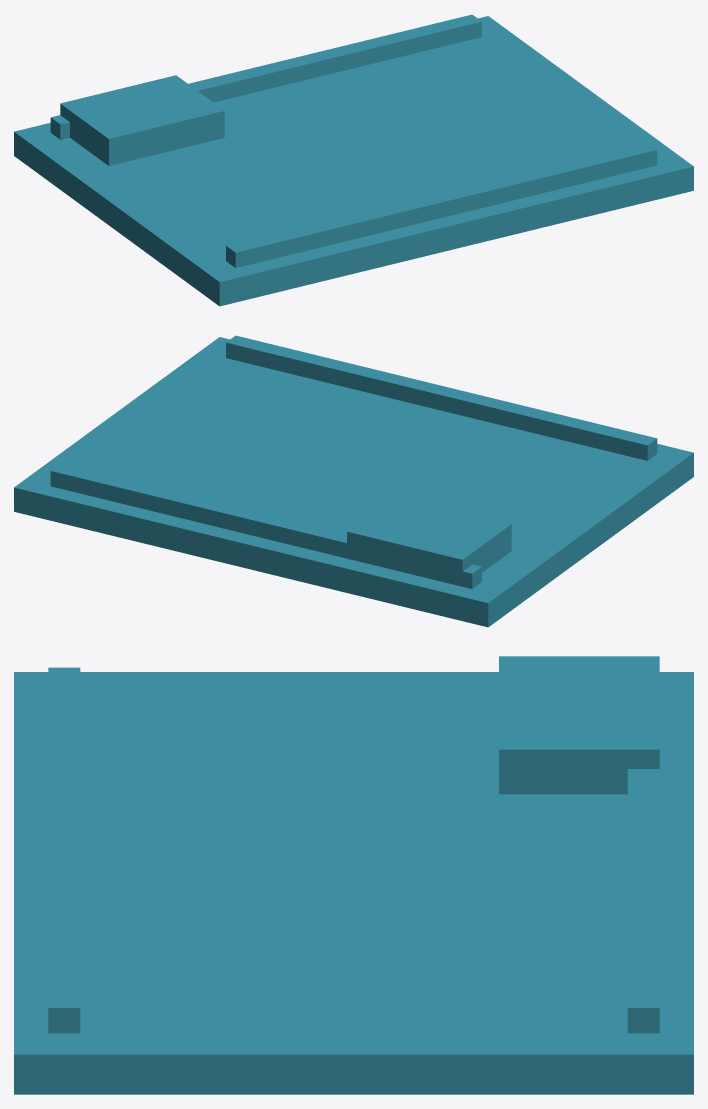
File: fish-pond.source.glb
3 renders of one model, top to bottom at view 1: azimuth 30°, elevation 25°; view 2: azimuth 150°, elevation 25°; view 3: azimuth 270°, elevation 25°, orthographic. The views are drawn at different scales.
Parts seen in each view (by area): view 1: fish-pond-shore-mesh, fish-pond-edge-1.44-mesh, fish-pond-feed-dock-mesh, fish-pond-edge--1.44-mesh; view 2: fish-pond-shore-mesh, fish-pond-edge-1.44-mesh, fish-pond-feed-dock-mesh, fish-pond-edge--1.44-mesh; view 3: fish-pond-shore-mesh, fish-pond-feed-dock-mesh, fish-pond-edge-1.44-mesh, fish-pond-edge--1.44-mesh.
Boxes of the visible parts, x1,y1,x2,y2 form: fish-pond-shore-mesh: (14, 16, 693, 306); fish-pond-edge-1.44-mesh: (226, 143, 657, 267); fish-pond-feed-dock-mesh: (60, 75, 224, 165); fish-pond-edge--1.44-mesh: (50, 14, 481, 139); fish-pond-shore-mesh: (14, 337, 693, 627); fish-pond-edge-1.44-mesh: (226, 335, 657, 460); fish-pond-feed-dock-mesh: (347, 496, 511, 586); fish-pond-edge--1.44-mesh: (50, 464, 481, 588); fish-pond-shore-mesh: (14, 672, 693, 1094); fish-pond-feed-dock-mesh: (499, 656, 659, 794); fish-pond-edge-1.44-mesh: (48, 667, 80, 1033); fish-pond-edge--1.44-mesh: (627, 769, 659, 1033).
Size of the model in its own units: 4.5 by 0.465 by 3.38.
